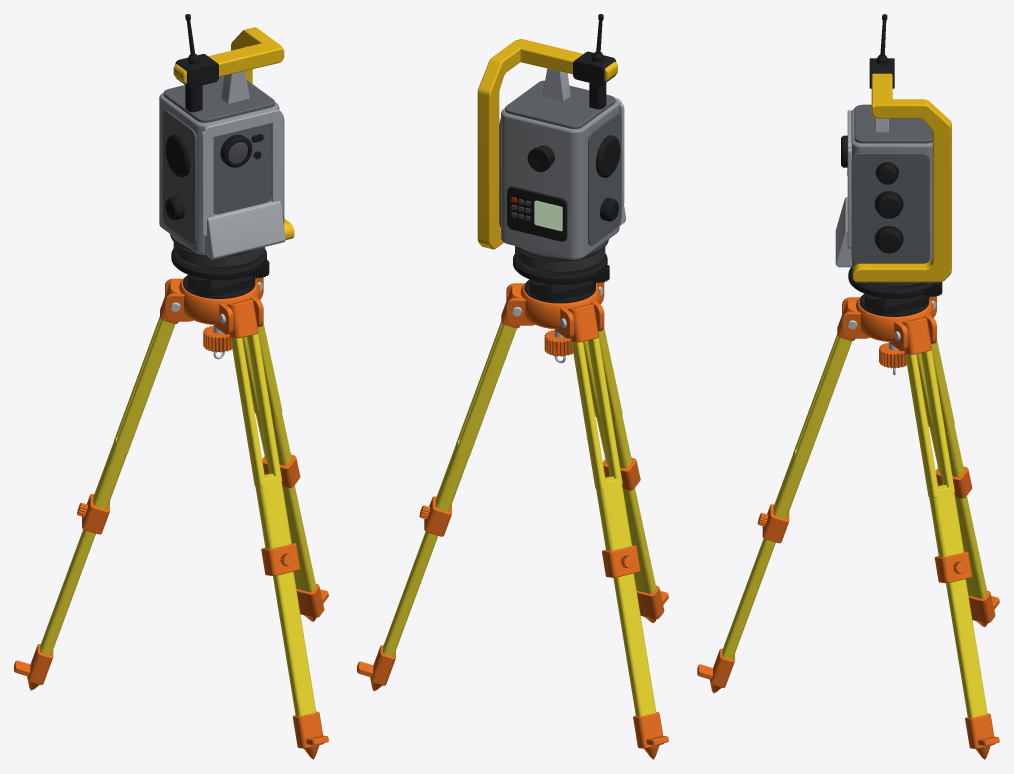
File: Robotic_Total_Station.glb
3 views of the same model, side by side, from view 1: azimuth 30°, elevation 25°; view 2: azimuth 150°, elevation 25°; view 3: azimuth 270°, elevation 25° (orthographic). The views are drawn at different scales.
Visible parts, largest first — view 1: Front_Panel, Front_Chin, Leg_A_Lower, Side_Panel_L, Body_TopCap, Body, Leg_C_RailL, Leg_A_UpperSolid, Leg_C_Lower, Leg_A_RailR, Leg_A_RailL, Handle_CrossBar (+24 smaller); view 2: Body, Handle_SideFrame, Leg_C_Lower, Side_Panel_L, Body_TopCap, Leg_B_RailL, Leg_C_UpperSolid, Back_Bezel, Leg_B_Lower, Leg_C_RailR, Leg_C_RailL, Base_Rotation (+21 smaller); view 3: Side_Panel_R, Handle_SideFrame, Leg_B_Lower, Body_TopCap, Leg_A_RailL, Leg_B_UpperSolid, Leg_A_Lower, Leg_B_RailR, Leg_B_RailL, Leg_C_Lower, Body, Tripod_Head (+17 smaller).
Boxes of the visible parts, x1,y1,x2,y2 form: Front_Panel: (213,123,271,214); Front_Chin: (205,201,285,259); Leg_A_Lower: (273,571,316,716); Side_Panel_L: (162,110,197,244); Body_TopCap: (163,76,274,122); Body: (159,93,279,254); Leg_C_RailL: (114,319,175,454); Leg_A_UpperSolid: (255,476,291,548); Leg_C_Lower: (40,529,95,655); Leg_A_RailR: (230,337,265,486); Leg_A_RailL: (247,333,282,481); Handle_CrossBar: (173,41,284,83); Body: (501,99,619,259); Handle_SideFrame: (477,40,523,249); Leg_C_Lower: (613,573,656,716); Side_Panel_L: (588,113,621,245); Body_TopCap: (505,80,615,128); Leg_B_RailL: (456,324,516,457); Leg_C_UpperSolid: (595,479,631,550); Back_Bezel: (507,186,567,241); Leg_B_Lower: (383,532,437,656); Leg_C_RailR: (571,341,605,489); Leg_C_RailL: (588,337,622,484); Base_Rotation: (515,239,608,274); Side_Panel_R: (851,152,929,263); Handle_SideFrame: (852,99,951,282); Leg_B_Lower: (946,579,987,717); Body_TopCap: (854,104,932,143); Leg_A_RailL: (793,337,852,466); Leg_B_UpperSolid: (929,487,963,557); Leg_A_Lower: (722,538,775,659); Leg_B_RailR: (905,354,938,497); Leg_B_RailL: (921,350,954,492); Leg_C_Lower: (955,496,987,598); Body: (851,109,932,267); Tripod_Head: (856,296,933,341).
Size of the model in its own units: 95.33 by 200 by 82.77.
